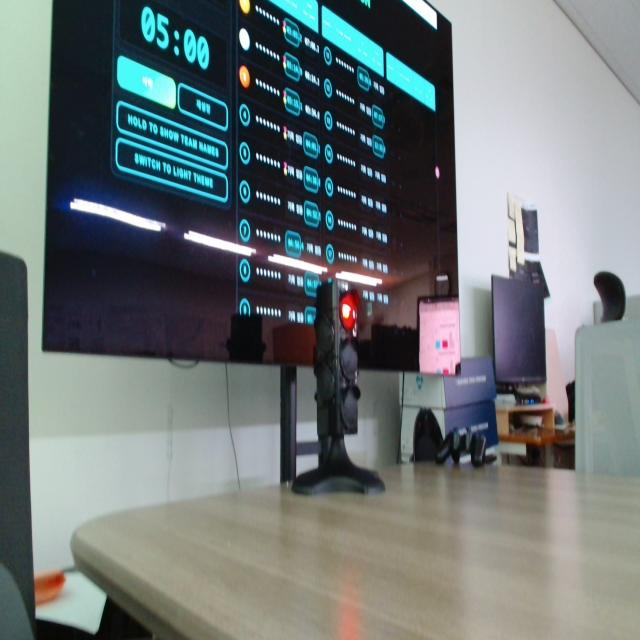red_light: (340, 291, 359, 332)
